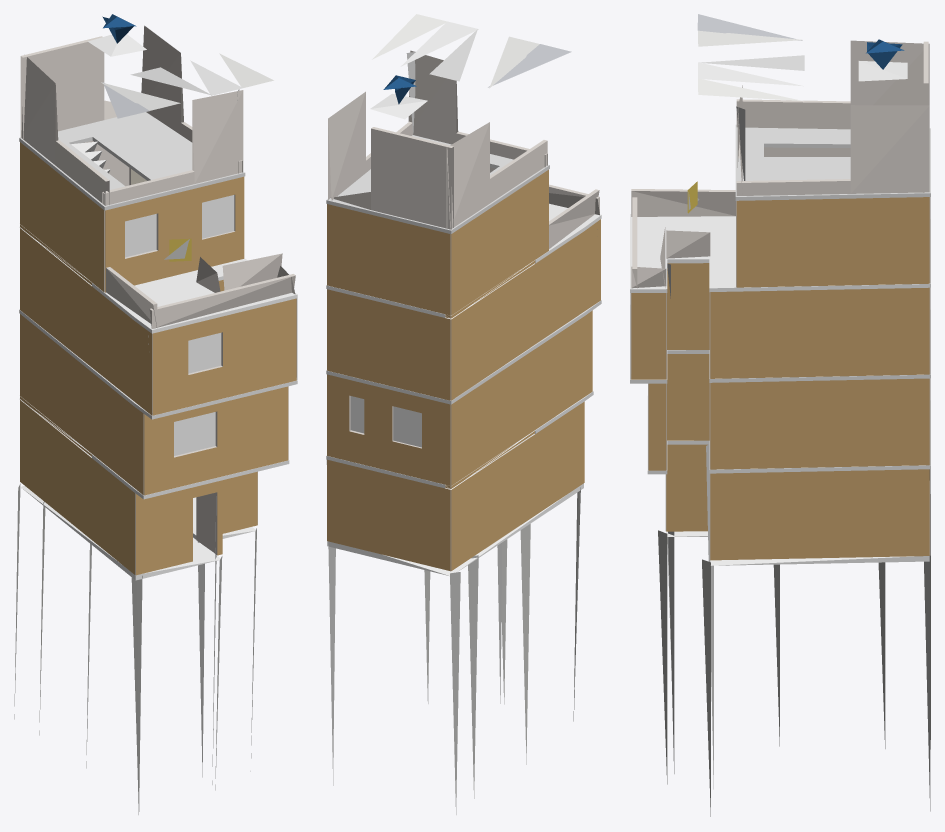
3 renders of one model, left to right at view 1: azimuth 30°, elevation 25°; view 2: azimuth 150°, elevation 25°; view 3: azimuth 270°, elevation 25°, orthographic. The views are drawn at different scales.
Visible parts, largest first — view 1: F_15; view 2: F_15; view 3: F_15.
Part boxes in pixels (<box>): F_15: <box>14,14,297,814</box>; F_15: <box>326,14,601,814</box>; F_15: <box>630,14,930,816</box>.
Size of the model in its own units: 5.44 by 23.55 by 8.56.
